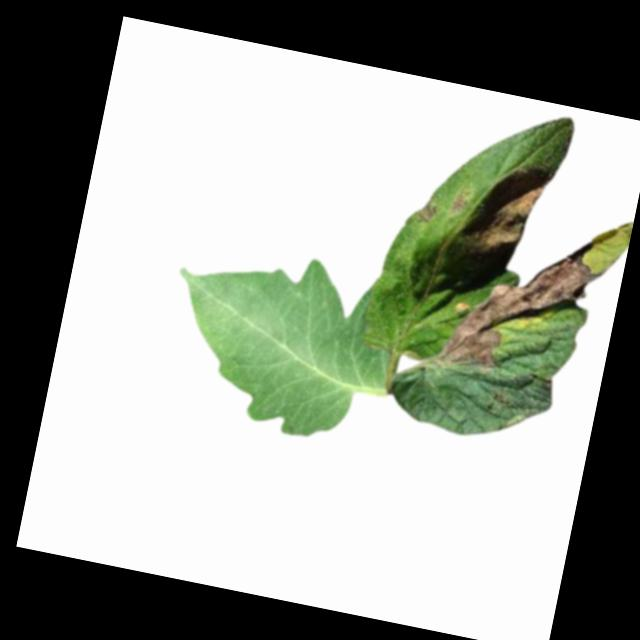Late_blight: (434, 216, 608, 392), (465, 157, 554, 269), (413, 198, 441, 226), (447, 185, 468, 217)
healthy: (147, 230, 411, 453)
